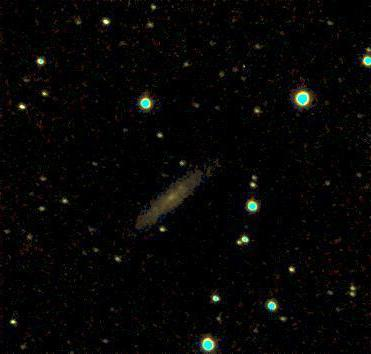star: (165, 172, 195, 202)
